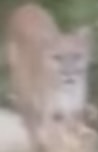Mountain Lion: (10, 4, 93, 138)
